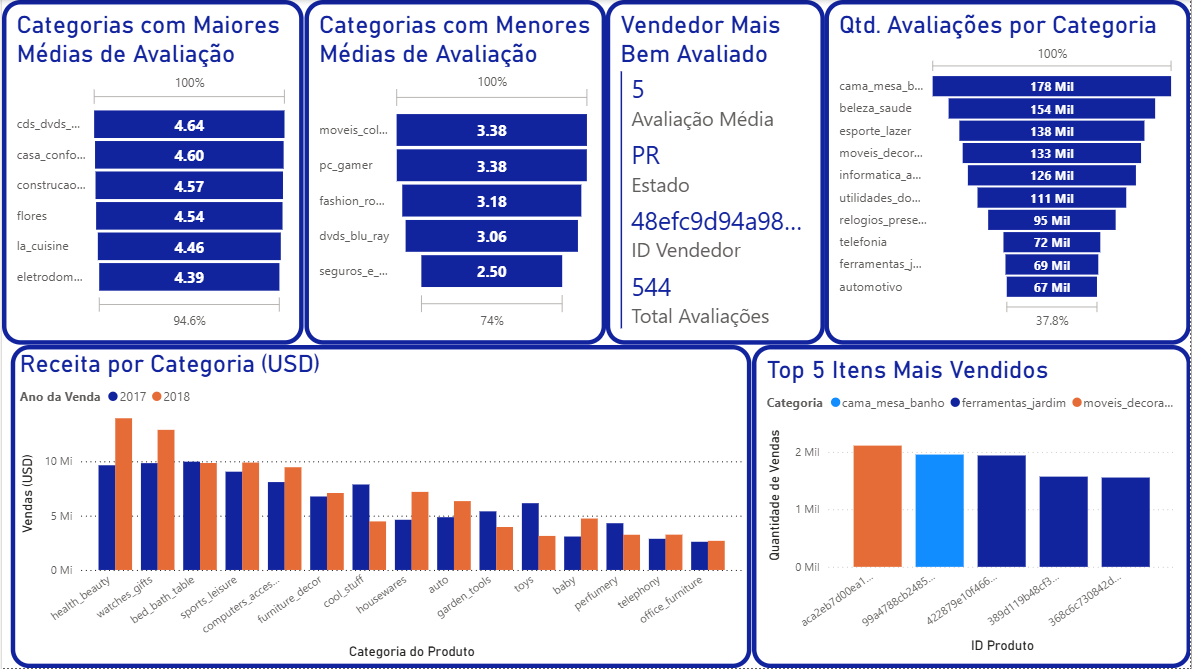

What the dashboard file says about the page in this screenshot:
{"tool":"powerbi","page":{"name":"Página 1","canvas":[1280,720],"ordinal":0},"visuals":[{"type":"funnel","title":"Categorias com Maiores Médias de Avaliação","fields":{"Category":["fat_avaliacoes_clientes.categoria_produto"],"Y":["Avg(fat_avaliacoes_clientes.avaliacao_media)"]},"box":[0,0,325.1,371.2],"z":0},{"type":"clusteredColumnChart","title":"Receita por Categoria (USD)","fields":{"Category":["fat_vendas_comercial.categoria_produto"],"Series":["fat_vendas_comercial.ano_venda"],"Y":["Sum(fat_vendas_comercial.receita_total_usd)"]},"box":[9.5,371.2,798,348.2],"z":1},{"type":"columnChart","title":"Top 5 Itens Mais Vendidos","fields":{"Category":["top5_produtos_mais_vendidos.ID Produto"],"Series":["top5_produtos_mais_vendidos.Categoria"],"Y":["Sum(top5_produtos_mais_vendidos.Quantidade Vendida)"]},"box":[807.5,371.2,472.8,348.2],"z":2},{"type":"funnel","title":"Qtd. Avaliações por Categoria","fields":{"Category":["fat_avaliacoes_clientes.categoria_produto"],"Y":["Sum(fat_avaliacoes_clientes.total_avaliacoes)"]},"box":[886,0,394.2,371.2],"z":3},{"type":"funnel","title":"Categorias com Menores Médias de Avaliação","fields":{"Y":["Avg(fat_avaliacoes_clientes.avaliacao_media)"],"Category":["fat_avaliacoes_clientes.categoria_produto"]},"box":[325.1,0,325.1,371.2],"z":4},{"type":"multiRowCard","title":"Vendedor Mais Bem Avaliado","fields":{"Values":["vendedor_mais_bem_avaliado.Avaliação Média","vendedor_mais_bem_avaliado.Estado","vendedor_mais_bem_avaliado.ID Vendedor","Sum(vendedor_mais_bem_avaliado.Total Avaliações)"]},"box":[650.3,0,235.7,371.2],"z":5}]}

Visuals, with their boxes in screenshot pixels (x1, y1, x2, y2), scaled from the page's 1280x720 canvas onto the 1192x669 screenshot:
"Categorias com Maiores Médias de Avaliação" funnel: (0, 0, 303, 345)
"Receita por Categoria (USD)" clusteredColumnChart: (9, 345, 752, 668)
"Top 5 Itens Mais Vendidos" columnChart: (752, 345, 1191, 668)
"Qtd. Avaliações por Categoria" funnel: (825, 0, 1191, 345)
"Categorias com Menores Médias de Avaliação" funnel: (303, 0, 605, 345)
"Vendedor Mais Bem Avaliado" multiRowCard: (606, 0, 825, 345)
